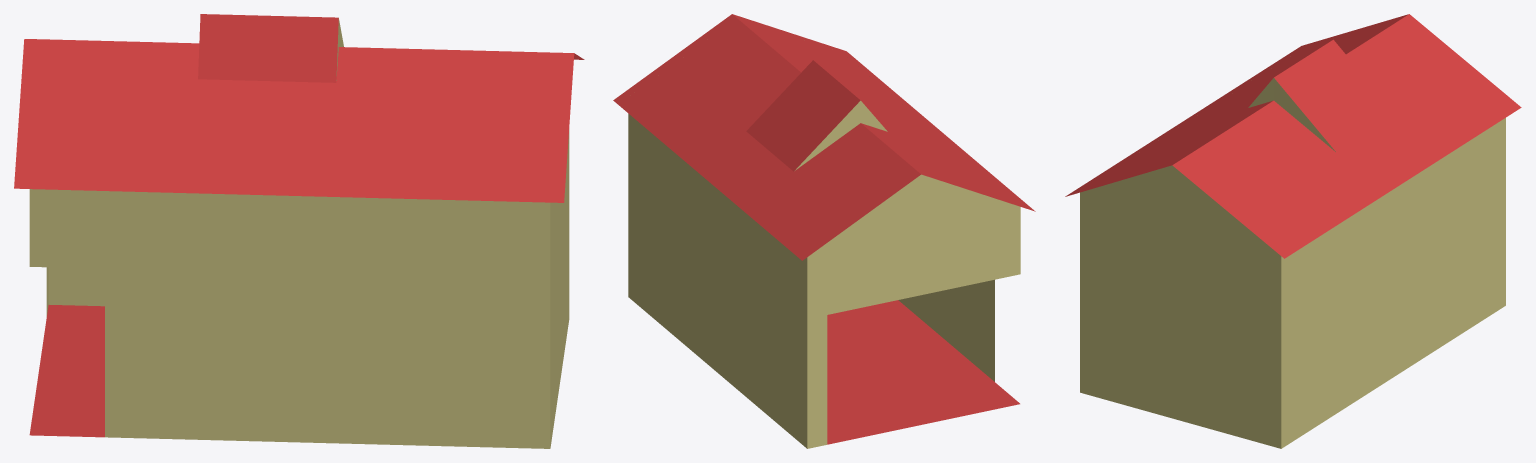
3 views of the same model, side by side, from view 1: azimuth 30°, elevation 25°; view 2: azimuth 150°, elevation 25°; view 3: azimuth 270°, elevation 25° (orthographic). The views are drawn at different scales.
Size of the model in its own units: 22.07 by 20.03 by 13.62.
